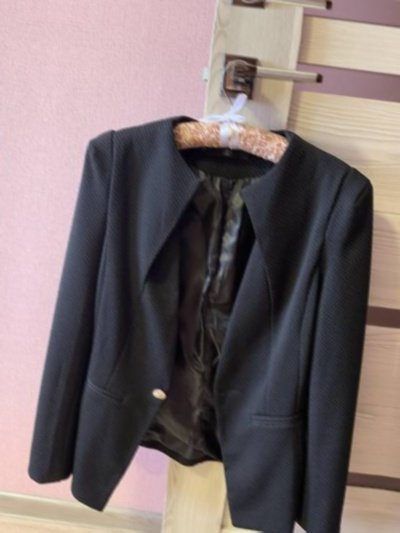Blazer: (14, 83, 400, 533), (0, 34, 32, 503), (385, 130, 400, 533)
